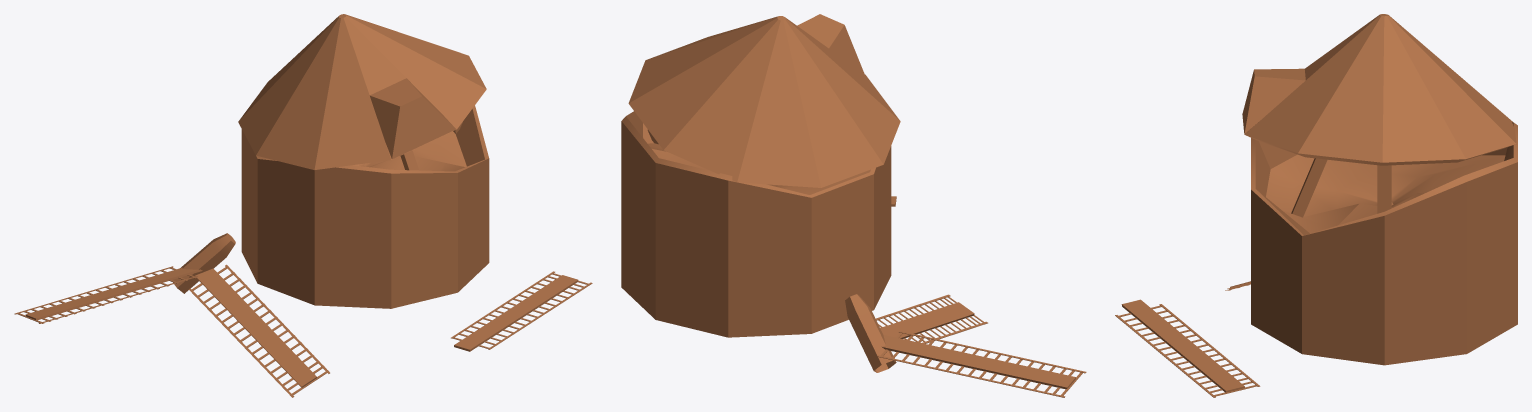
File: WindmillRuin_LP.fbx
3 renders of one model, left to right at view 1: azimuth 30°, elevation 25°; view 2: azimuth 150°, elevation 25°; view 3: azimuth 270°, elevation 25°, orthographic. The views are drawn at different scales.
Visible parts, largest first — view 1: WindmillRuin_LP; view 2: WindmillRuin_LP; view 3: WindmillRuin_LP.
Boxes of the visible parts, x1,y1,x2,y2 form: WindmillRuin_LP: (14, 14, 592, 397); WindmillRuin_LP: (621, 14, 1086, 397); WindmillRuin_LP: (1115, 14, 1517, 397).
Bounding box in the file's own units: 430 × 265 × 284.
